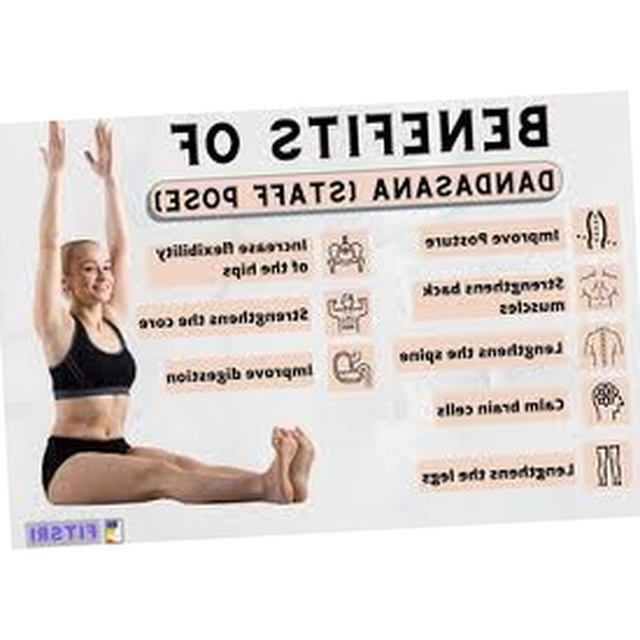Staff_Pose: (33, 121, 314, 506)
